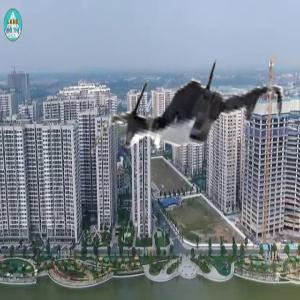drone: (99, 21, 284, 206)
